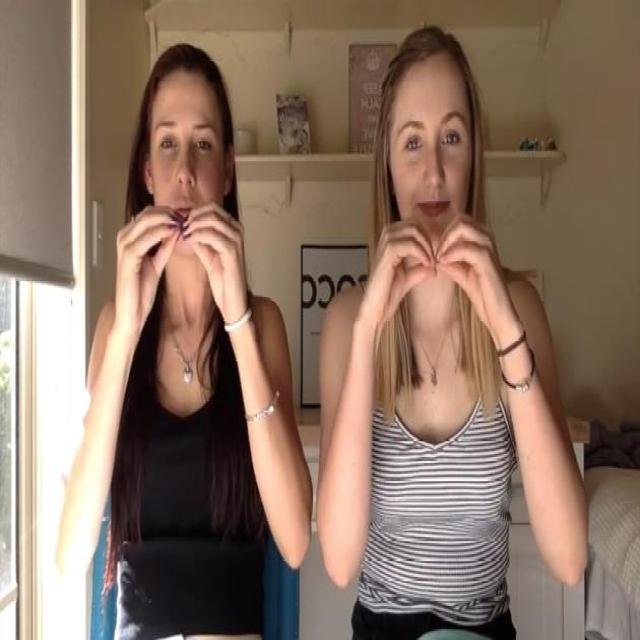B: (115, 192, 255, 316), (367, 214, 515, 328)
